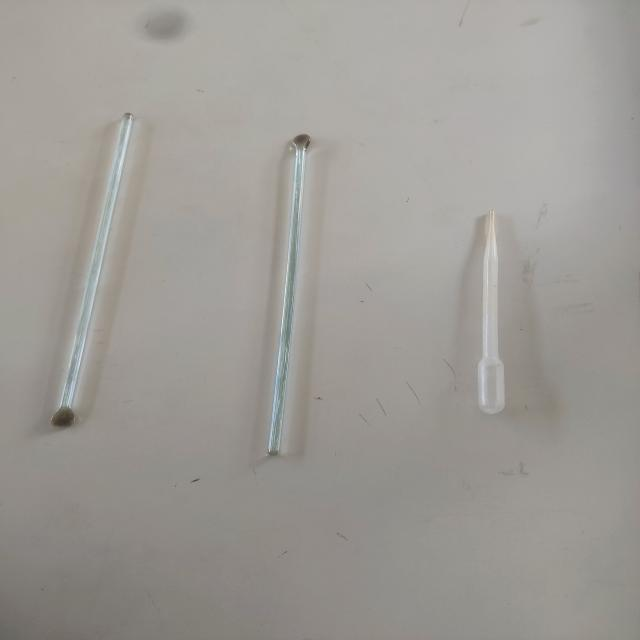Glass_Rod: (208, 101, 370, 476), (26, 87, 156, 451)
Pipette: (444, 186, 541, 436)
